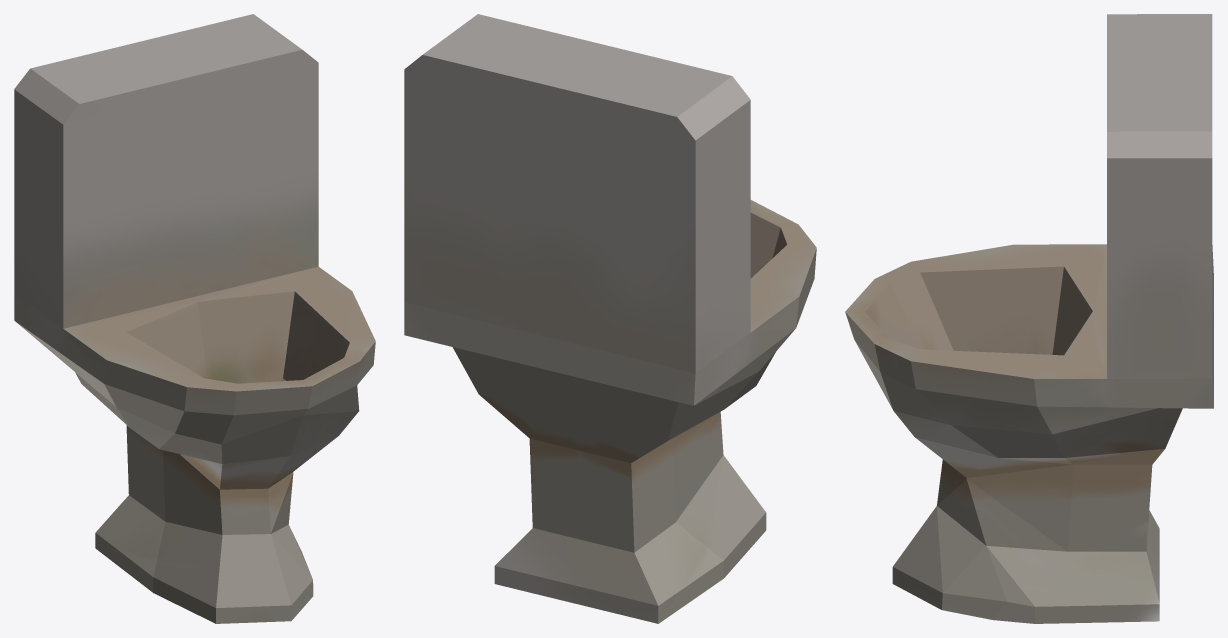
File: Toilet.fbx
3 views of the same model, side by side, from view 1: azimuth 30°, elevation 25°; view 2: azimuth 150°, elevation 25°; view 3: azimuth 270°, elevation 25° (orthographic). The views are drawn at different scales.
Visible parts, largest first — view 1: Canilla; view 2: Canilla; view 3: Canilla.
Boxes of the visible parts, x1,y1,x2,y2 form: Canilla: [14, 14, 375, 623]; Canilla: [404, 14, 816, 623]; Canilla: [845, 14, 1213, 623].
Size of the model in its own units: 230 by 408 by 266.
